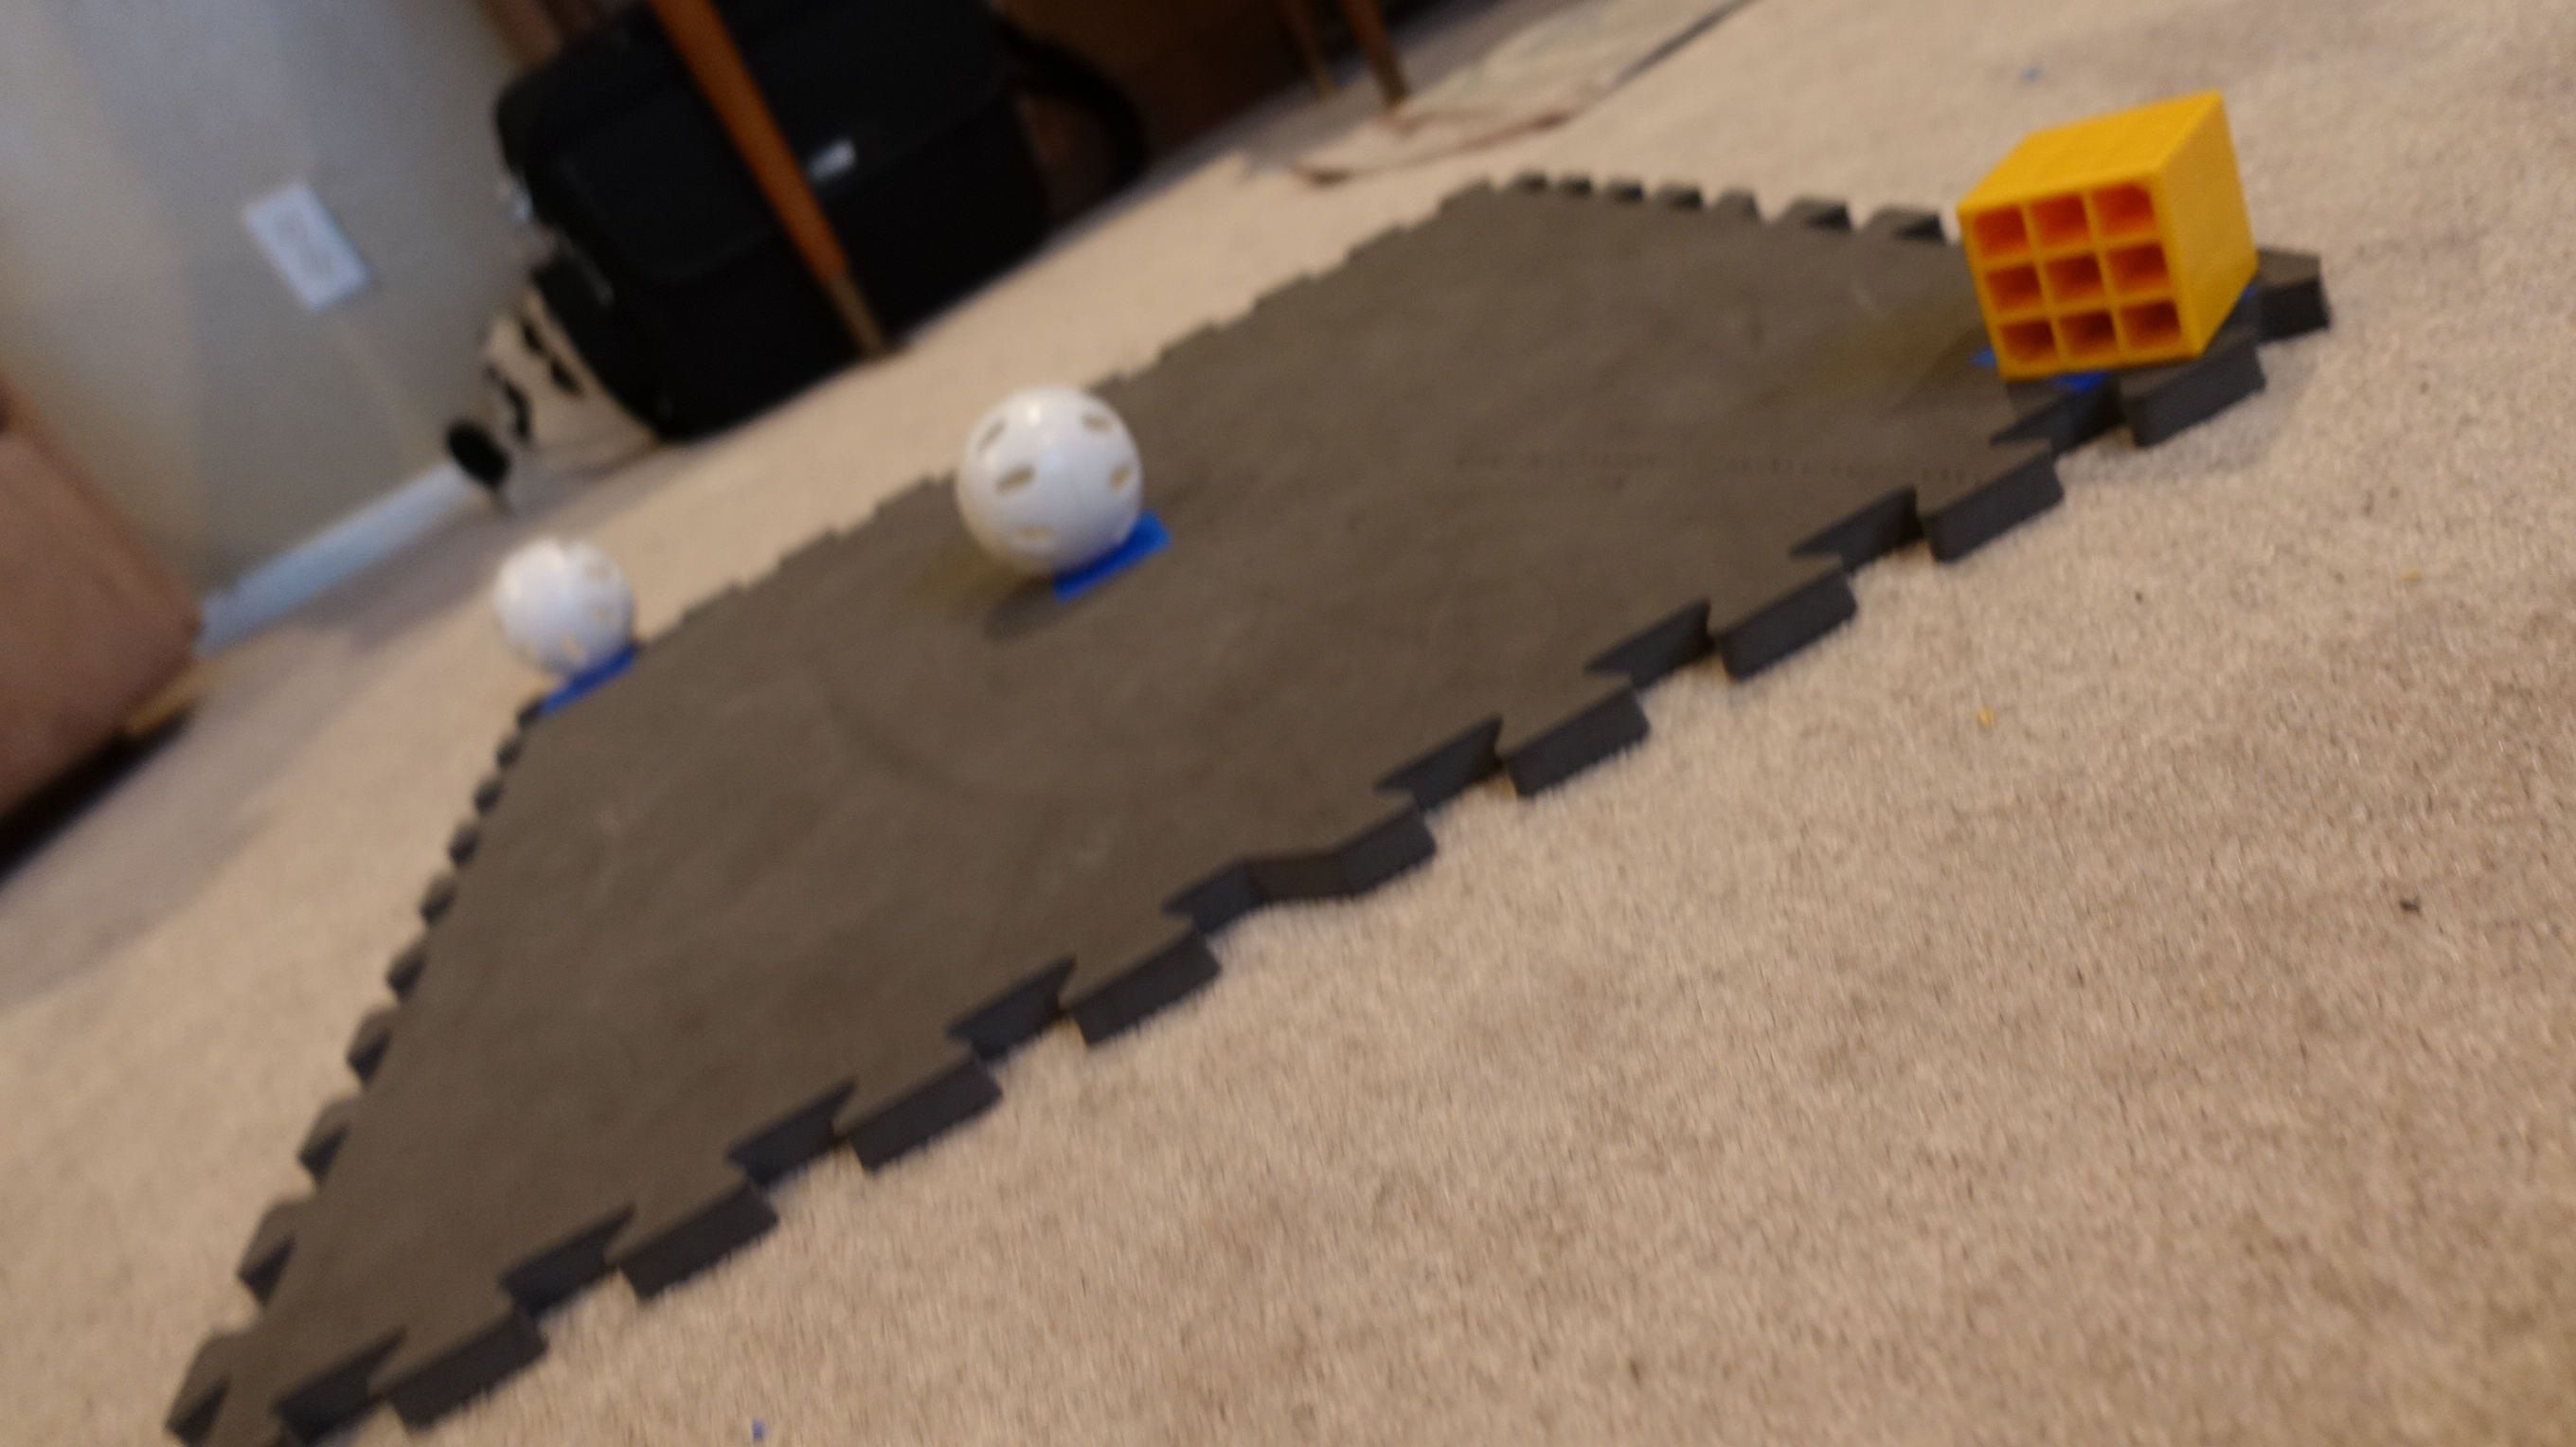gold: (1946, 80, 2275, 382)
silver: (945, 380, 1150, 578), (481, 522, 648, 679)
